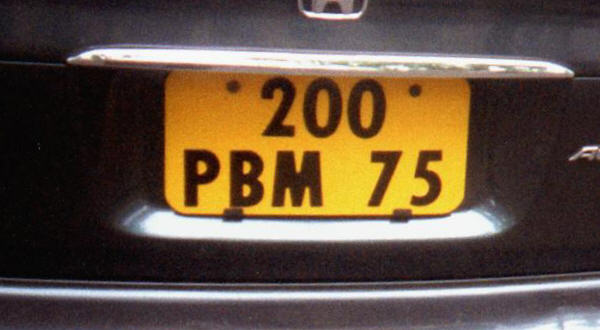license_plate: (164, 70, 470, 217)
